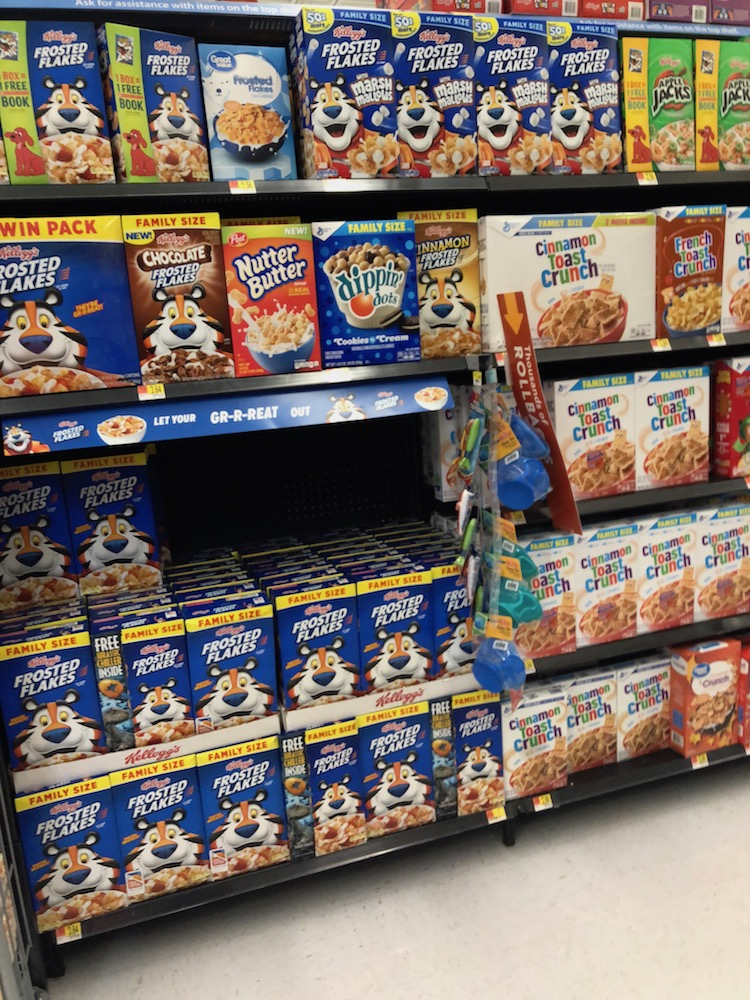Dippin Dots Cookies & Cream -568929378: (316, 225, 425, 364)
Nutter Butter-565717511: (224, 232, 323, 371)
